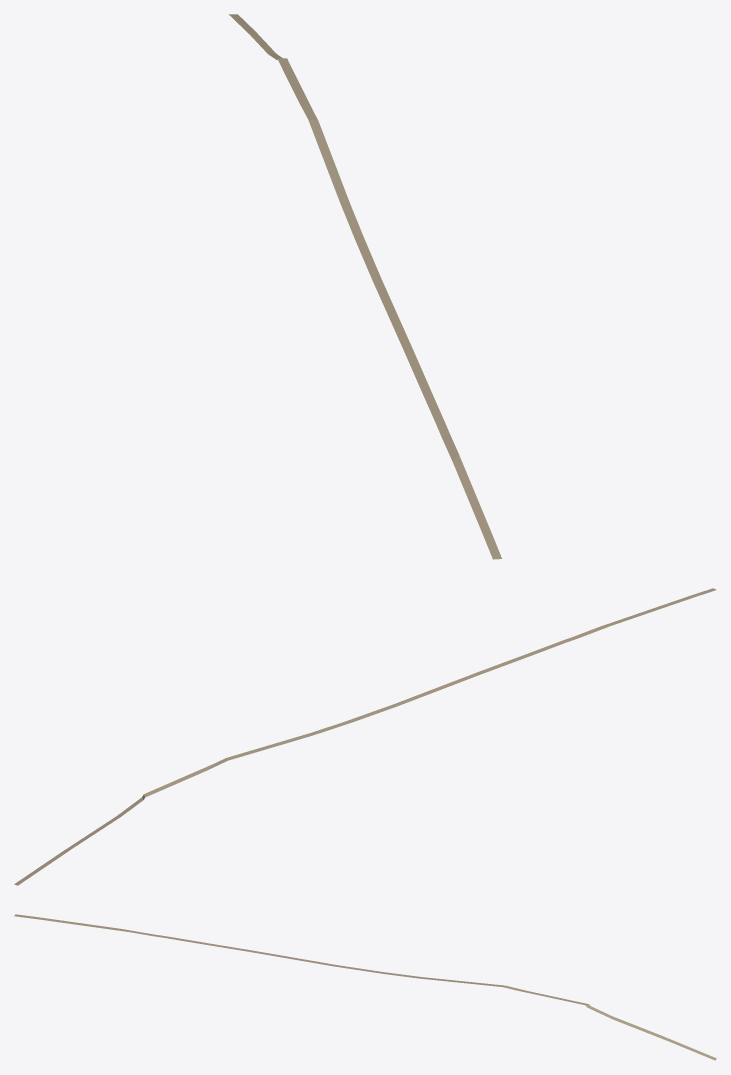
The model's file is farm_-9_6_track.glb.
3 views of the same model, one above another, from view 1: azimuth 30°, elevation 25°; view 2: azimuth 150°, elevation 25°; view 3: azimuth 270°, elevation 25° (orthographic). The views are drawn at different scales.
Parts seen in each view (by area): view 1: geometry_0; view 2: geometry_0; view 3: geometry_0.
Boxes of the visible parts, <box> form: geometry_0: <box>229,14,501,559</box>; geometry_0: <box>14,588,716,885</box>; geometry_0: <box>14,914,716,1060</box>.
Size of the model in its own units: 179 by 31.66 by 489.
